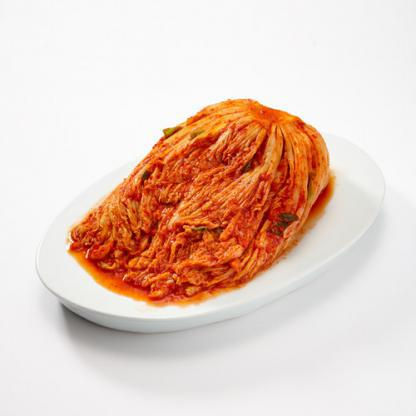kimchi: (68, 80, 350, 310)
